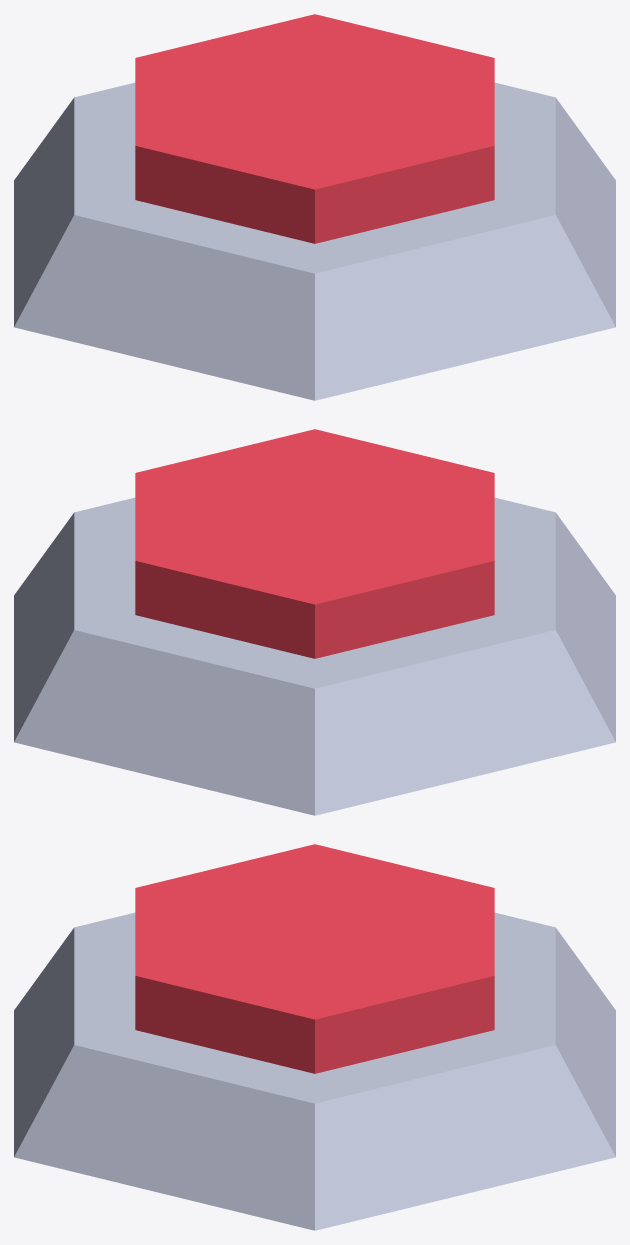
Rendered from buttonRound.obj.
3 renders of one model, top to bottom at view 1: azimuth 30°, elevation 25°; view 2: azimuth 150°, elevation 25°; view 3: azimuth 270°, elevation 25°, orthographic.
Parts seen in each view (by area): view 1: buttonRound, knob; view 2: buttonRound, knob; view 3: buttonRound, knob.
Part boxes in pixels (x1=…): buttonRound: x1=14, y1=82, x2=615, y2=400; knob: x1=135, y1=14, x2=494, y2=243; buttonRound: x1=14, y1=497, x2=615, y2=815; knob: x1=135, y1=429, x2=494, y2=658; buttonRound: x1=14, y1=912, x2=615, y2=1230; knob: x1=135, y1=844, x2=494, y2=1073.
Bounding box in the file's own units: 0.58 × 0.14 × 0.5023.
